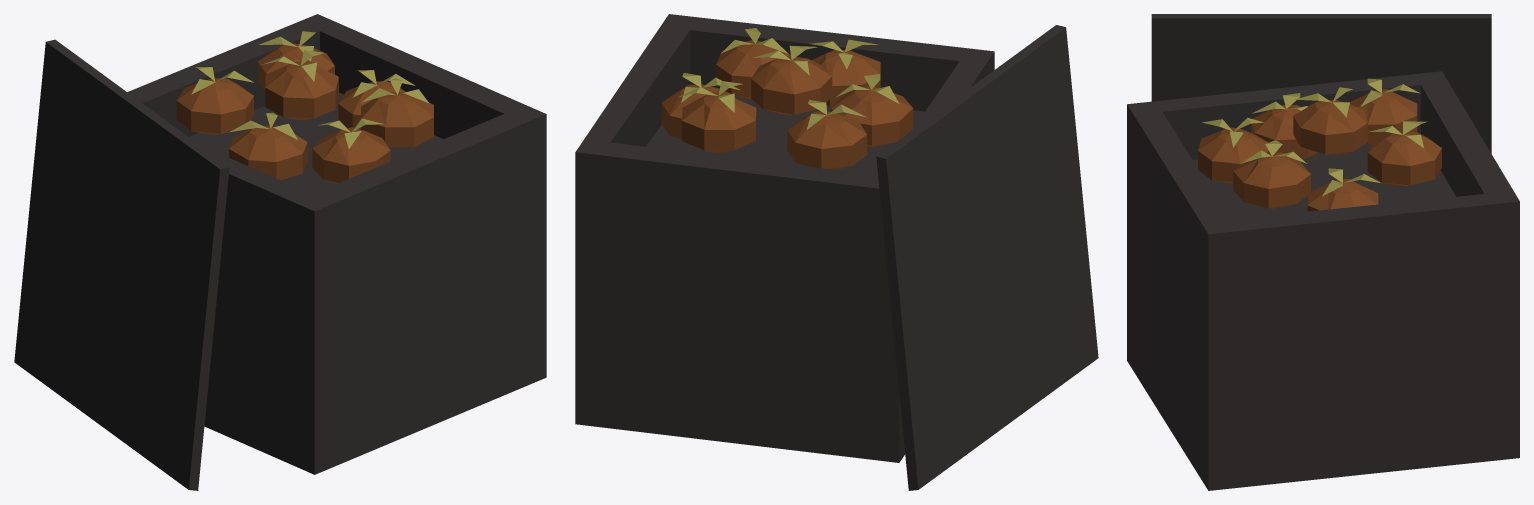
The model's file is obj_crate_24_0.obj.
The picture shows the model from 3 angles, left to right: view 1: azimuth 30°, elevation 25°; view 2: azimuth 150°, elevation 25°; view 3: azimuth 270°, elevation 25°; orthographic projection. The views are drawn at different scales.
Size of the model in its own units: 0.9609 by 0.75 by 0.8672.
